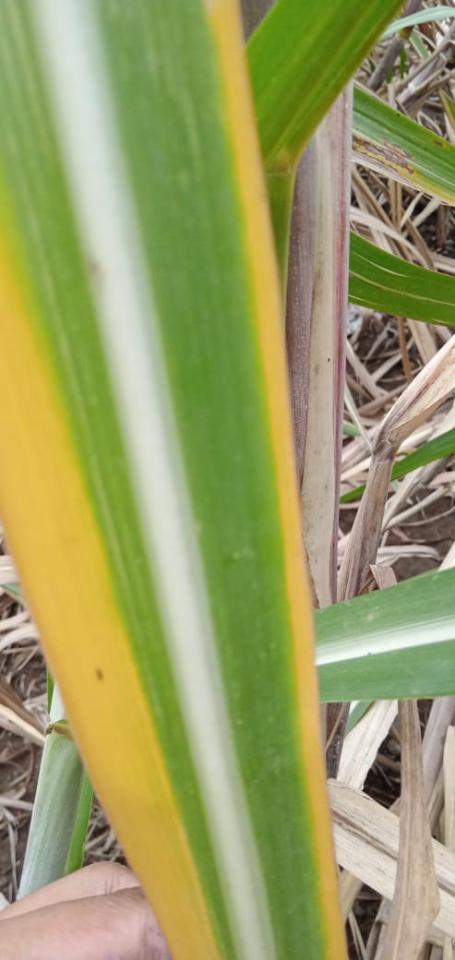Rust: (352, 133, 417, 184), (94, 668, 105, 683), (433, 140, 445, 148)
Yellow: (0, 235, 221, 959), (203, 0, 350, 959)
